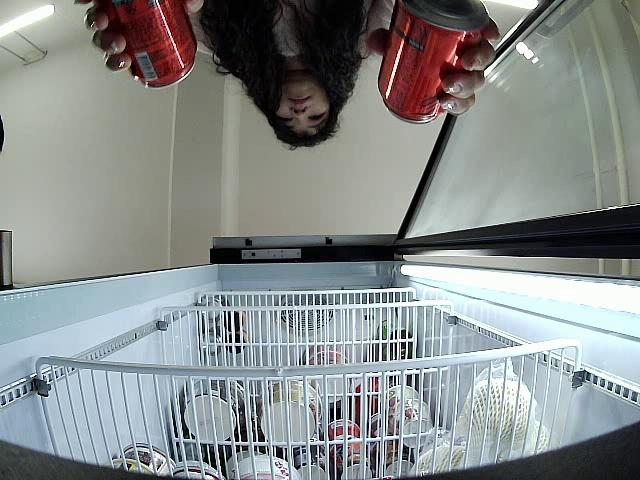00_hand: (365, 15, 503, 115), (75, 0, 205, 73)
11_cocaColaZero: (378, 0, 491, 126), (96, 0, 198, 89)
